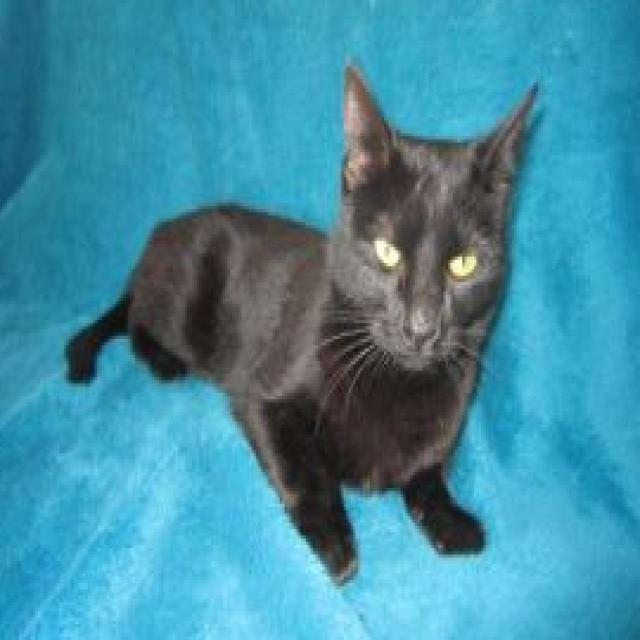Bombay: (62, 61, 544, 588)
